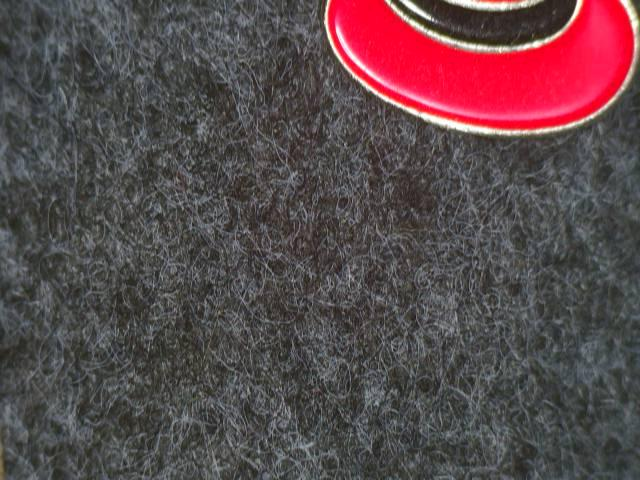Red-Hat: (304, 0, 640, 166)
